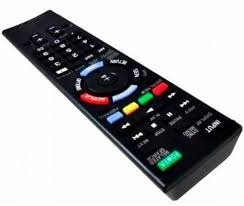remote control: (0, 0, 244, 206)
